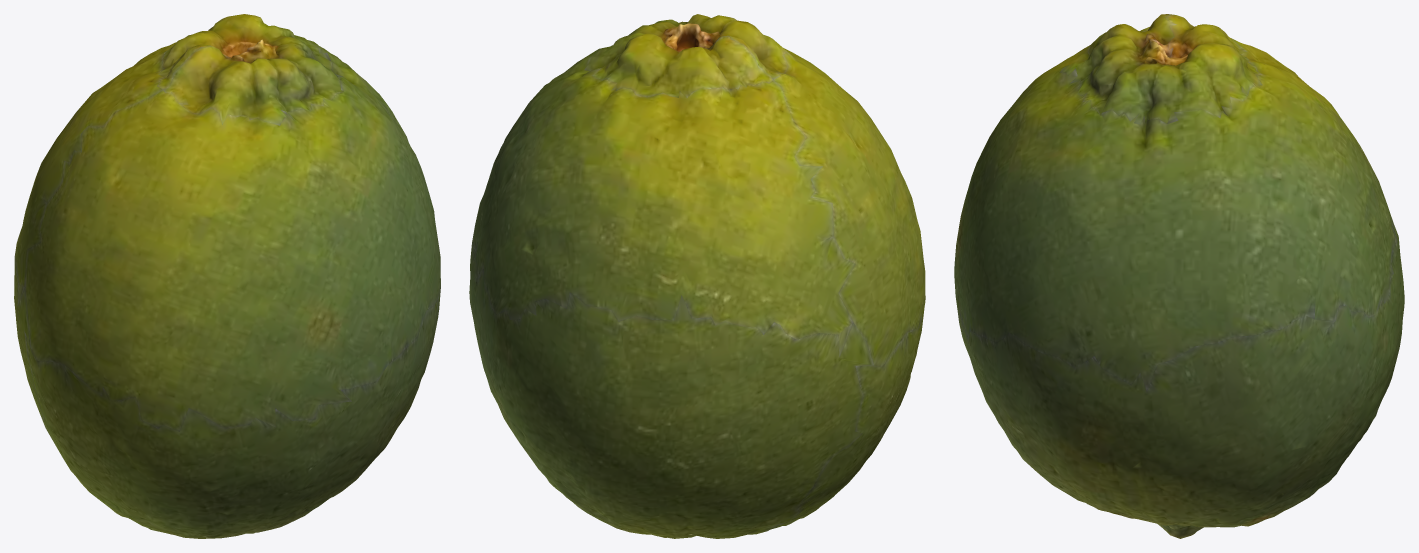
Rendered from limao.glb.
3 renders of one model, left to right at view 1: azimuth 30°, elevation 25°; view 2: azimuth 150°, elevation 25°; view 3: azimuth 270°, elevation 25°, orthographic.
Parts seen in each view (by area): view 1: food_lime_01; view 2: food_lime_01; view 3: food_lime_01.
Boxes of the visible parts, box(x1,y1,x2,y2) form: food_lime_01: box(14, 14, 440, 538); food_lime_01: box(469, 14, 925, 538); food_lime_01: box(954, 14, 1404, 538).
Bounding box in the file's own units: 0.0601 × 0.0754 × 0.0613.
Materials: 1 (1 with a texture image).
